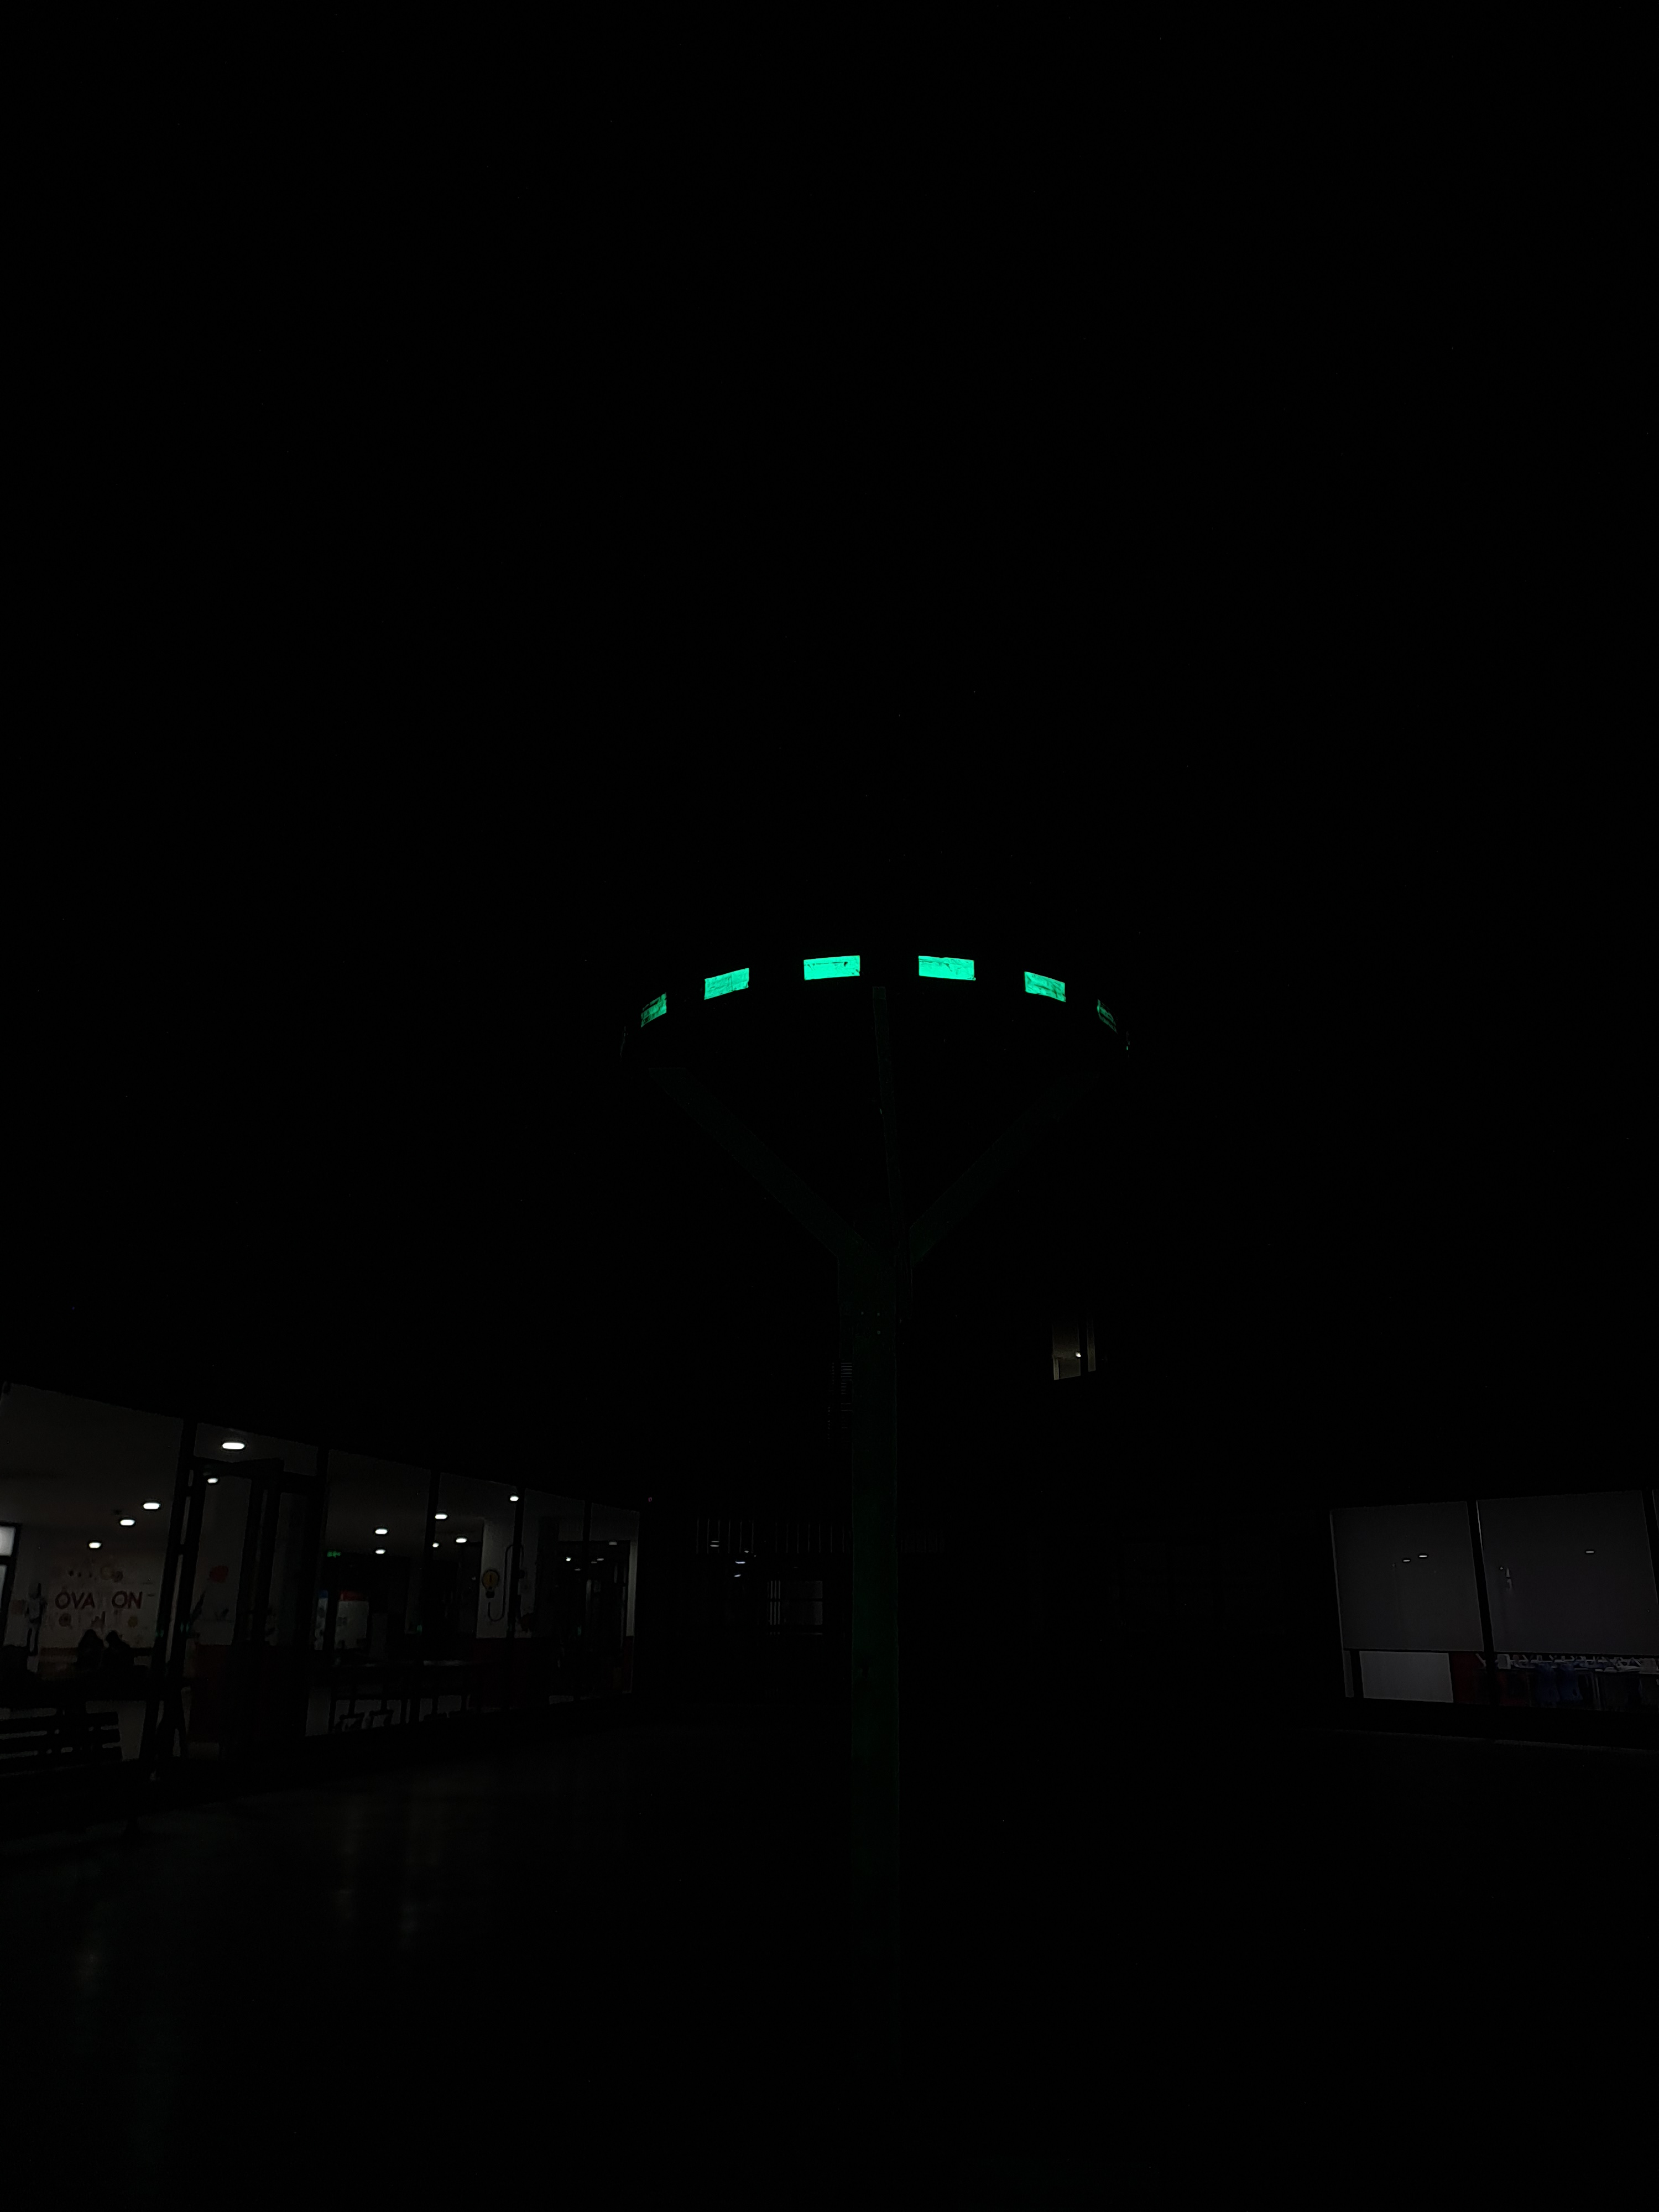hoop: (631, 949, 1068, 1036)
